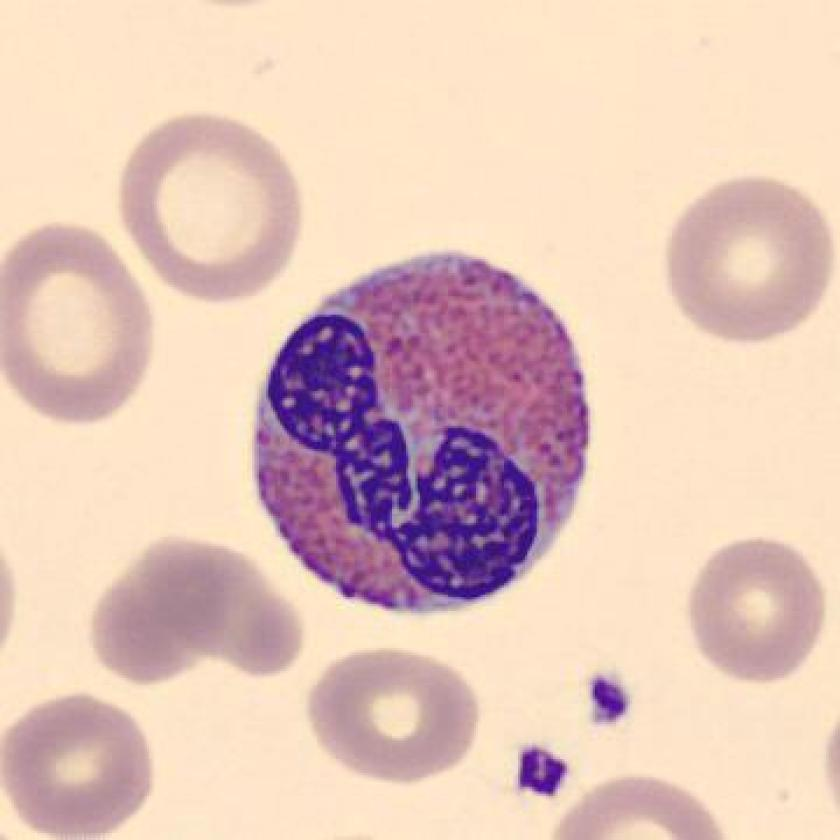eosinophil: (239, 240, 603, 622)
